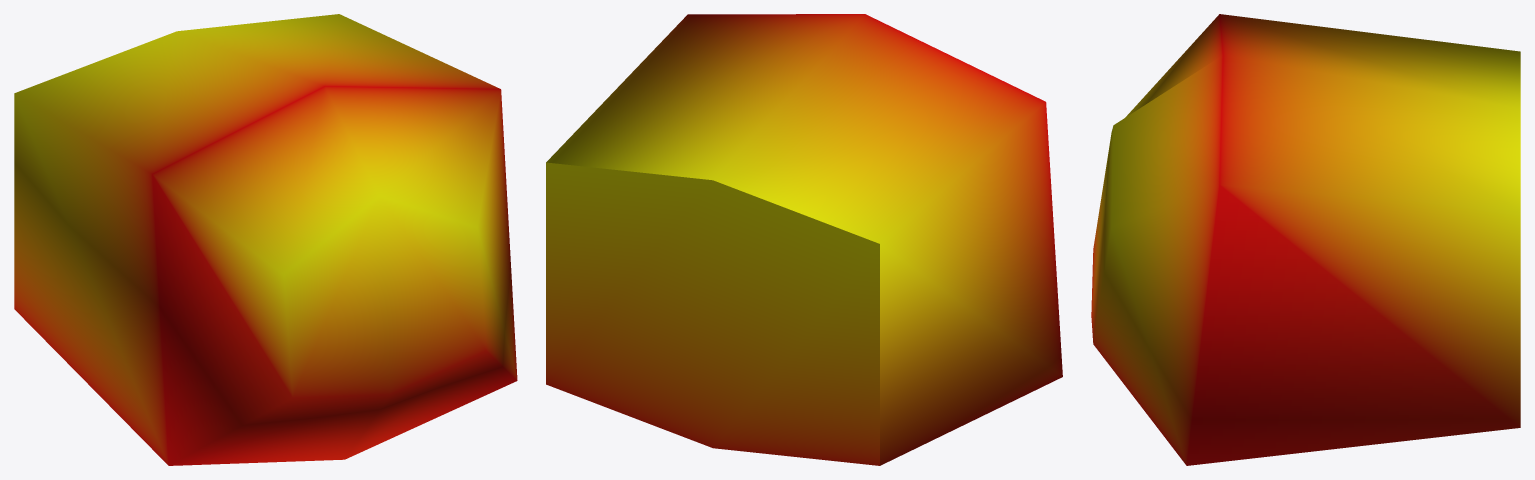
Rendered from ExplosionBeamEnd.fbx.
3 views of the same model, side by side, from view 1: azimuth 30°, elevation 25°; view 2: azimuth 150°, elevation 25°; view 3: azimuth 270°, elevation 25° (orthographic). The views are drawn at different scales.
Parts seen in each view (by area): view 1: pCube17; view 2: pCube17; view 3: pCube17.
Part boxes in pixels (<box>): pCube17: <box>14,14,517,465</box>; pCube17: <box>546,14,1062,465</box>; pCube17: <box>1091,14,1520,465</box>.
Bounding box in the file's own units: 0.7933 × 0.7802 × 0.8416.
